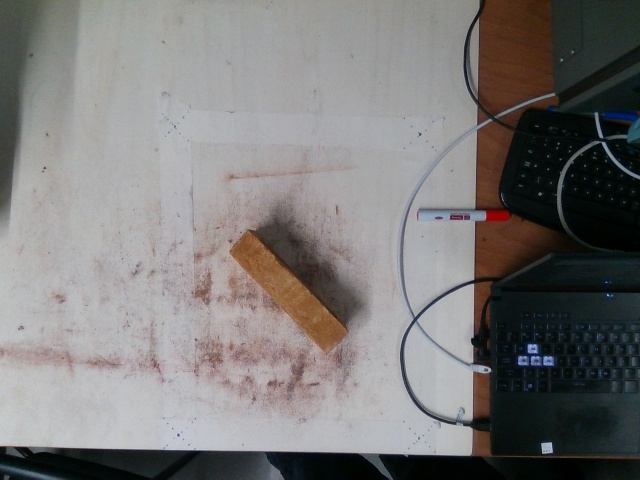brick-side: (232, 232, 346, 353)
